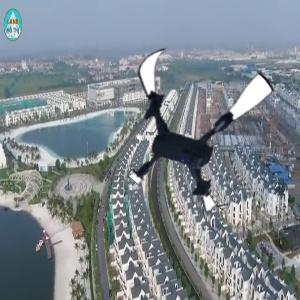drone: (113, 41, 281, 209)
